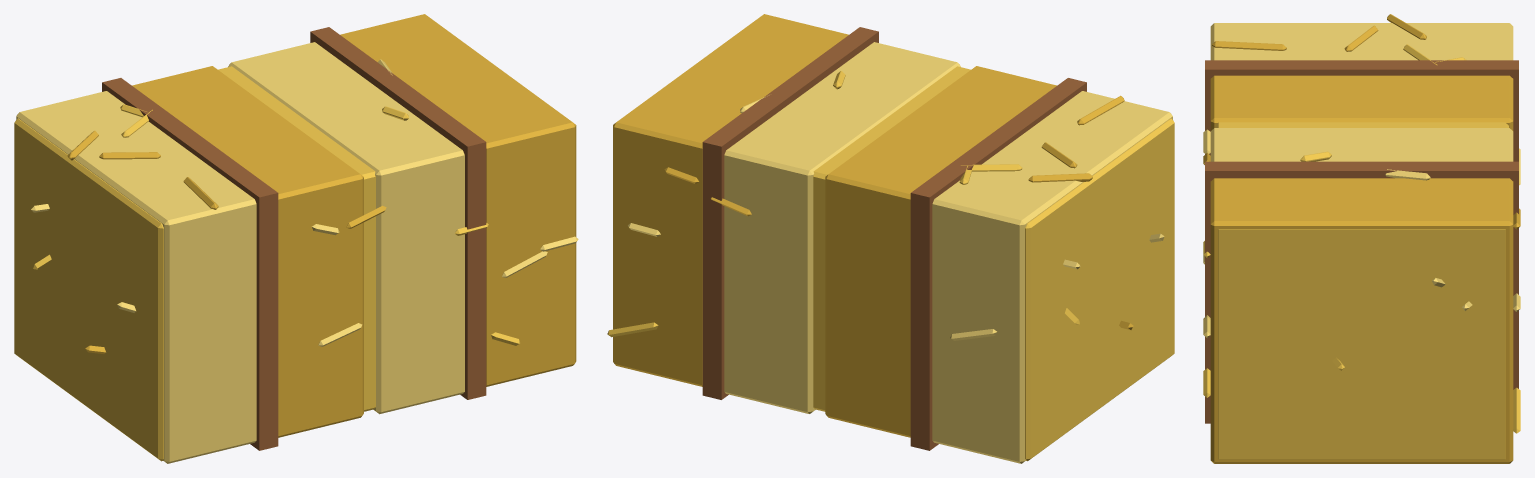
Rendered from myw_haybale.glb.
3 views of the same model, side by side, from view 1: azimuth 30°, elevation 25°; view 2: azimuth 150°, elevation 25°; view 3: azimuth 270°, elevation 25° (orthographic).
Parts seen in each view (by area): view 1: Hay, Twine; view 2: Hay, Twine; view 3: Hay, Twine.
Part boxes in pixels (<box>): Hay: <box>14,14,578,463</box>; Twine: <box>102,27,486,450</box>; Hay: <box>607,14,1174,463</box>; Twine: <box>702,27,1086,450</box>; Hay: <box>1203,14,1520,463</box>; Twine: <box>1205,60,1518,423</box>.
Size of the model in its own units: 4.74 by 2.56 by 2.91.
